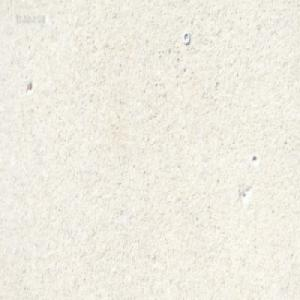Washer: (182, 30, 190, 45)
